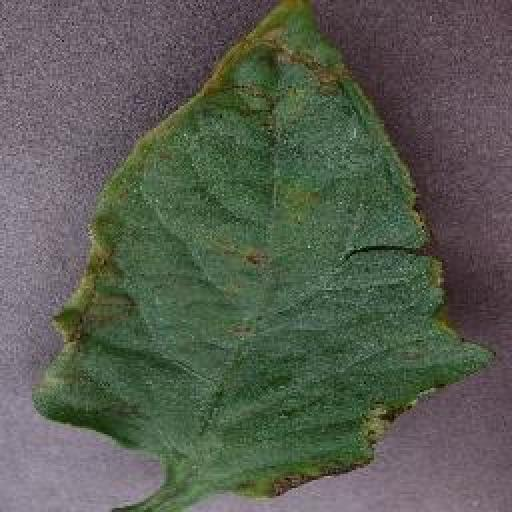Bacterial Spot: (27, 0, 497, 503)
